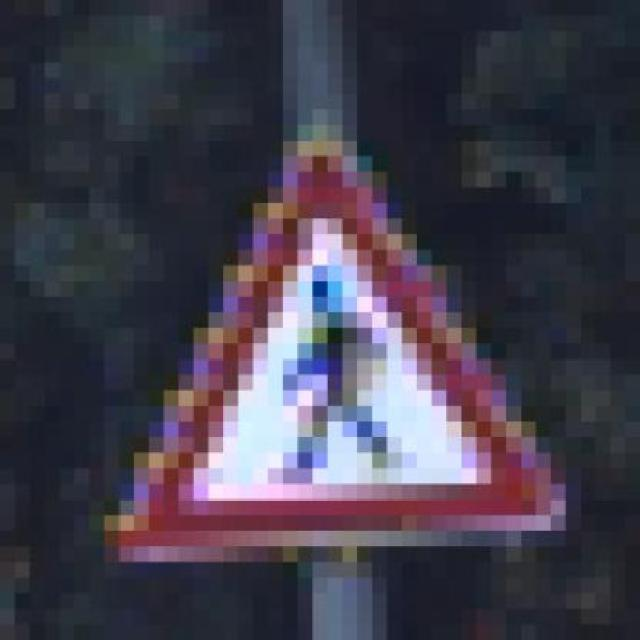Pedestrian Crossing: (89, 140, 580, 578)
